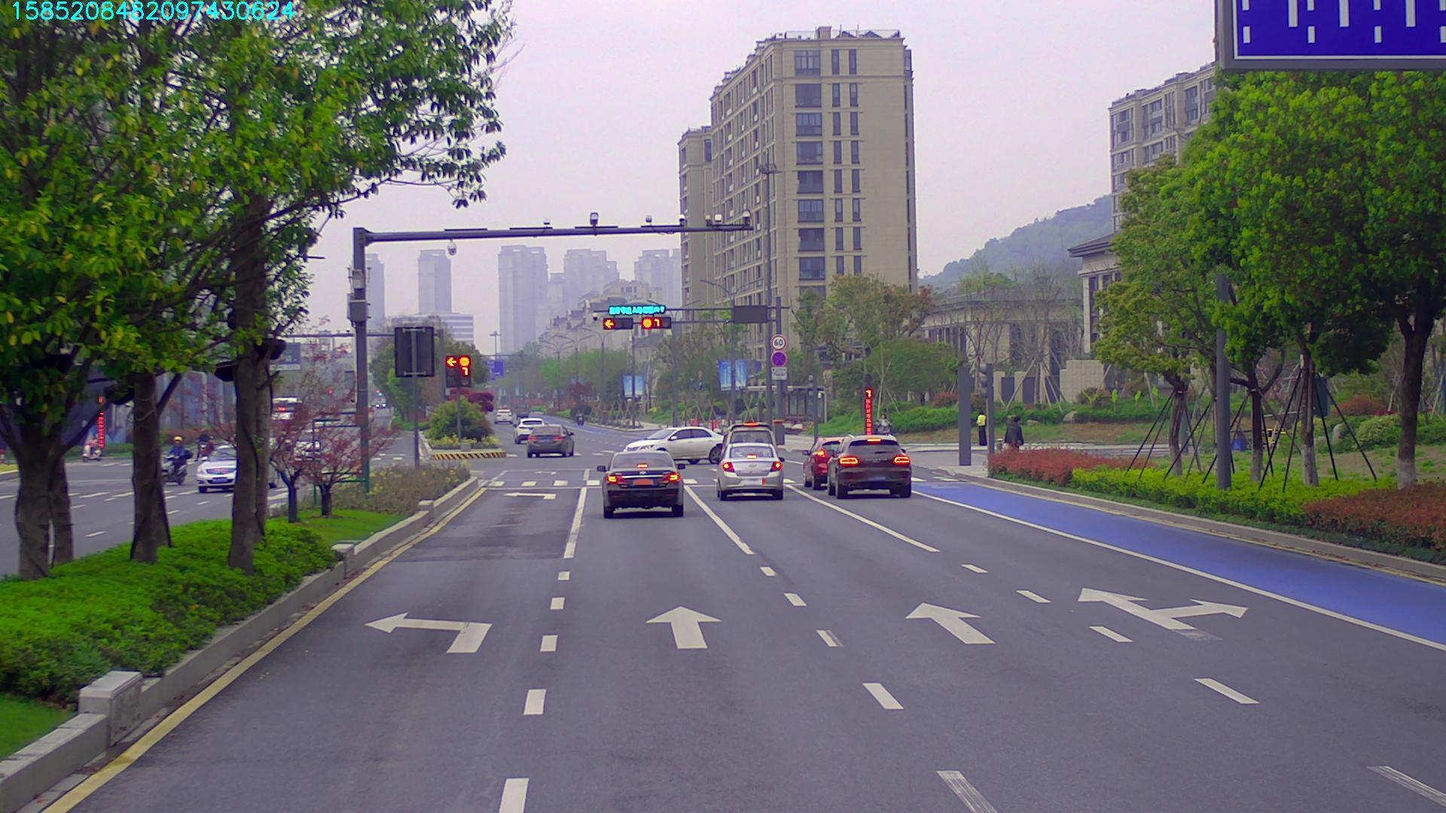red: (596, 319, 630, 330), (638, 317, 671, 326)
wait_on: (611, 303, 669, 315)
